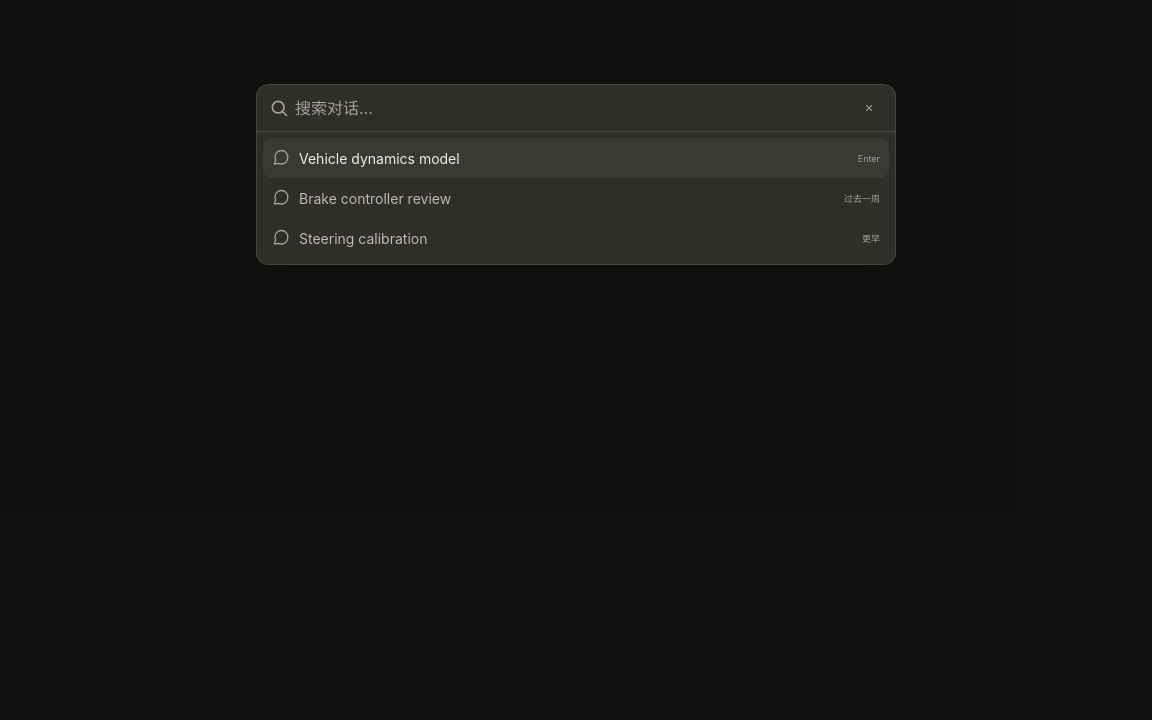
Scenario: ChatSearchModal › lists all items, then filters by title/content
The image size is (1152, 720).
Expected: the number of buttons with class "search-result" is 3, [263,138,889,178]; [263,178,889,218]; [263,218,889,258]
Type "kalman" into the field with class "search-input" at (572, 108), box [295,98,849,118]
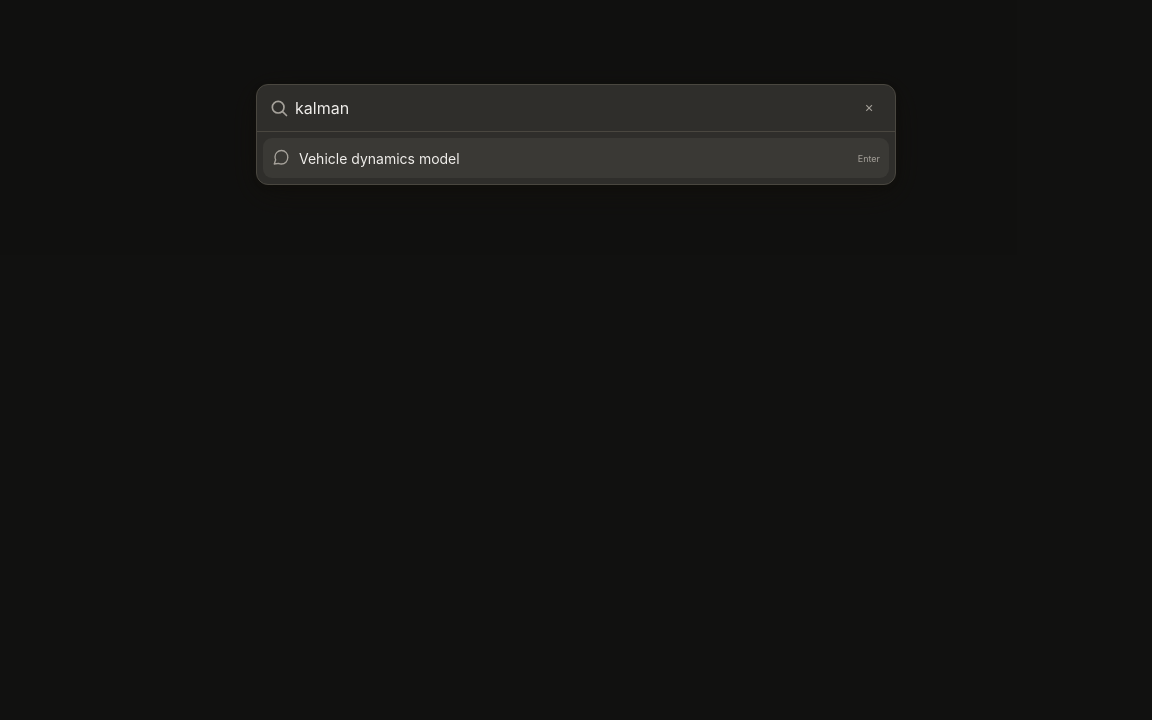
Expected: the button with class "search-result" shows "Vehicle dynamics model", [263,138,889,178]
Now the number of buttons with class "search-result" is 1, box [263,138,889,178]
